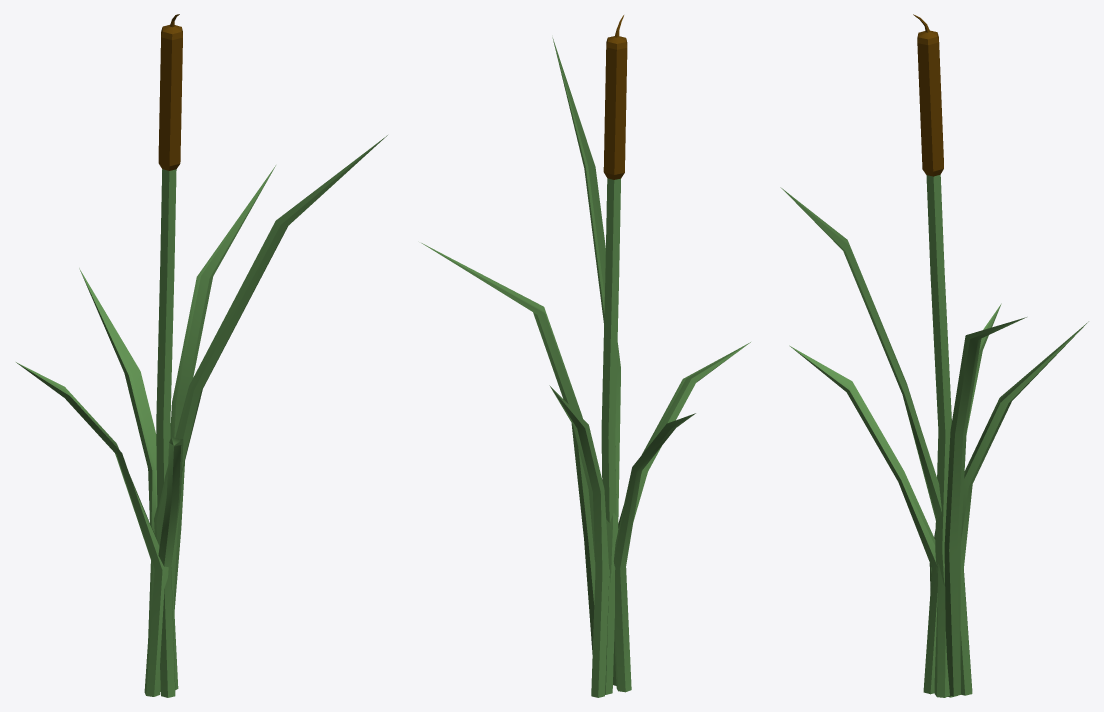
File: 001_Reed_002.fbx
3 views of the same model, side by side, from view 1: azimuth 30°, elevation 25°; view 2: azimuth 150°, elevation 25°; view 3: azimuth 270°, elevation 25° (orthographic). The views are drawn at different scales.
Visible parts, largest first — view 1: pCylinder7; view 2: pCylinder7; view 3: pCylinder7.
Boxes of the visible parts, x1,y1,x2,y2 form: pCylinder7: (16,14,387,697); pCylinder7: (421,15,750,697); pCylinder7: (780,14,1088,697).
Size of the model in its own units: 2.55 by 6.07 by 2.51.
